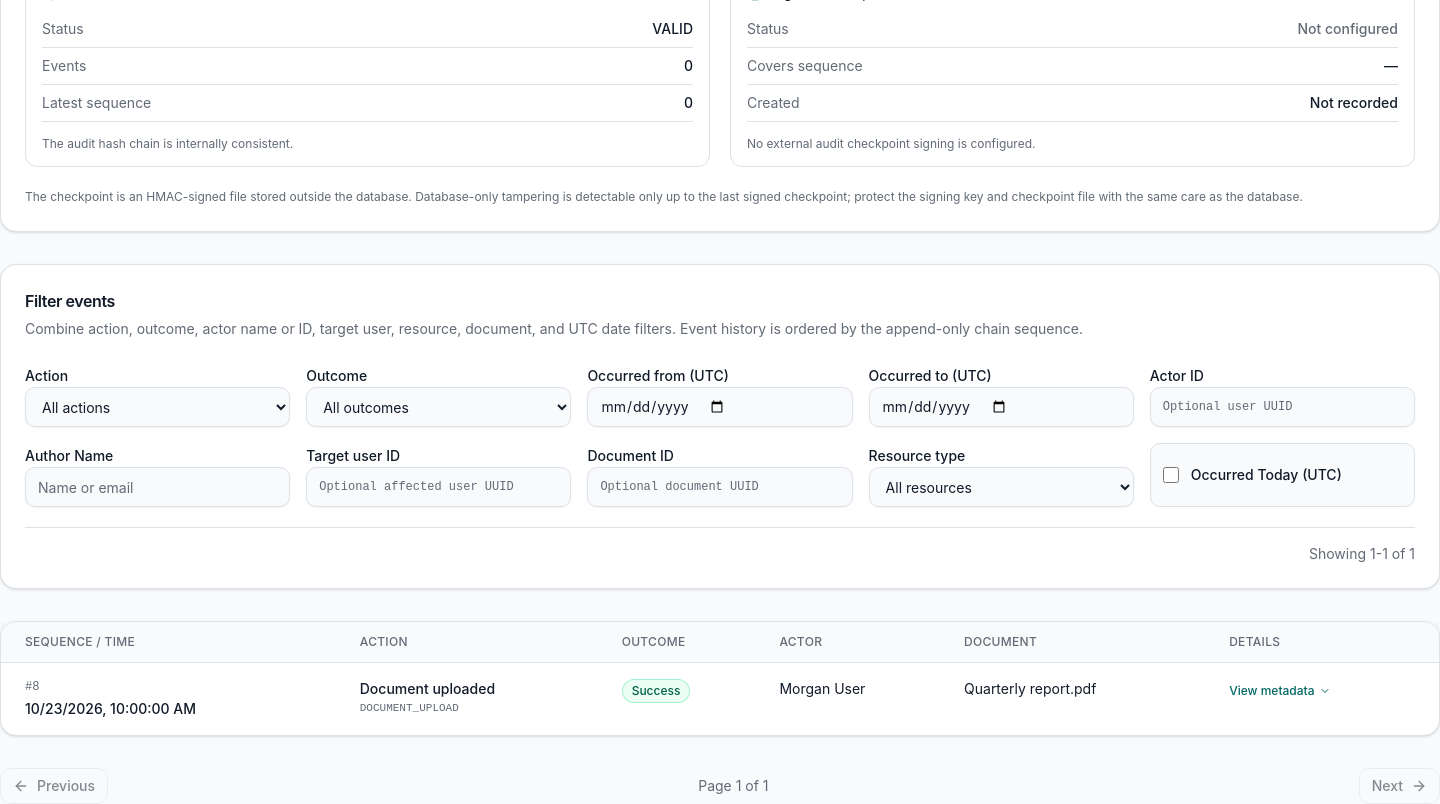
it: AuditPage filters › shows document names in the table and technical identifiers only in metadata
(page scrolled)
Expected: the text "Quarterly report.pdf" is shown, left=964, top=680, right=1096, bottom=697
Expected: the text "document-uuid" is not shown
Click the button "View metadata": (1280, 691) left=1223, top=679, right=1337, bottom=703
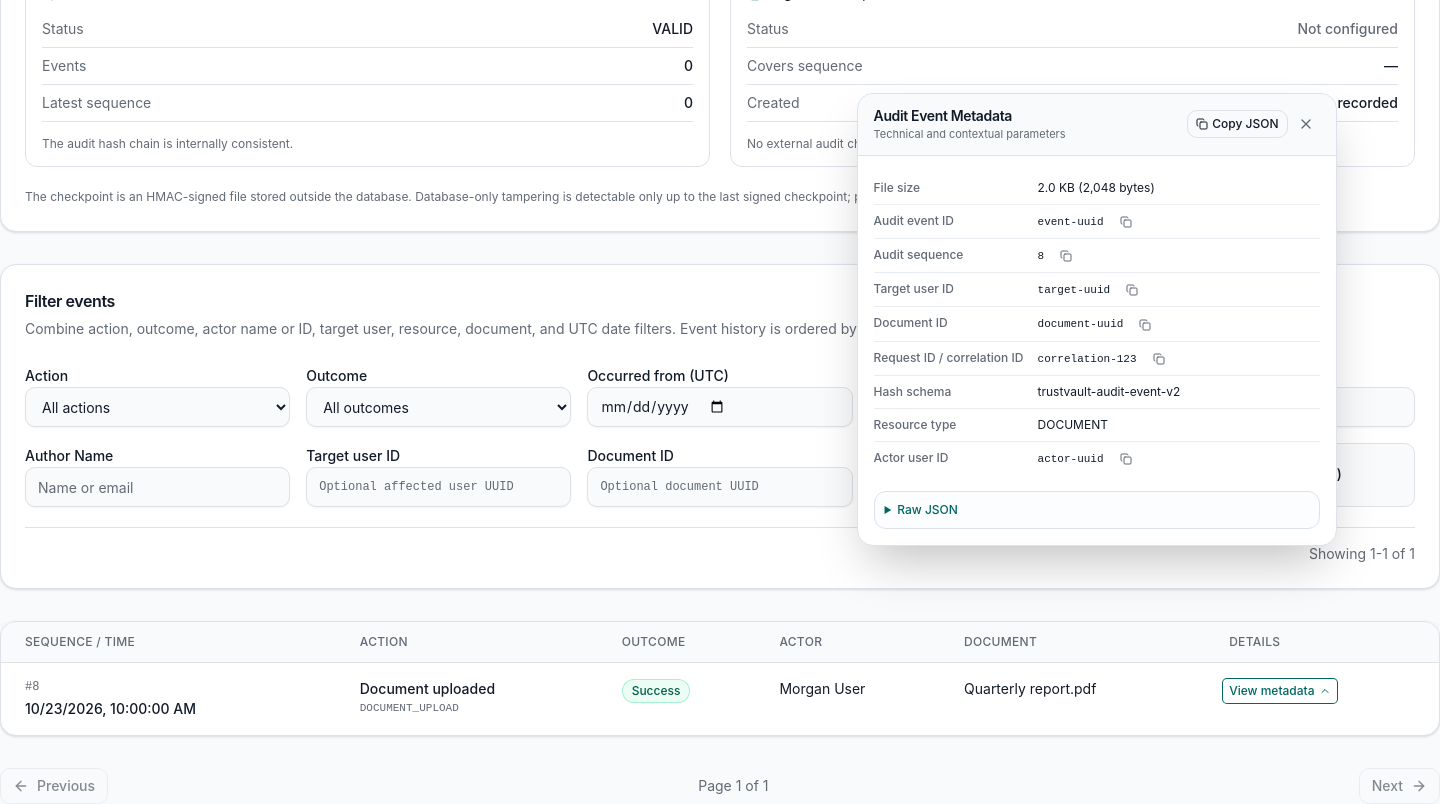
Now the text "Request ID / correlation ID" is shown, box left=874, top=350, right=1034, bottom=366
Now the text "document-uuid" is shown, box left=1038, top=318, right=1123, bottom=332
Now the text "correlation-123" is shown, box left=1038, top=352, right=1136, bottom=366
